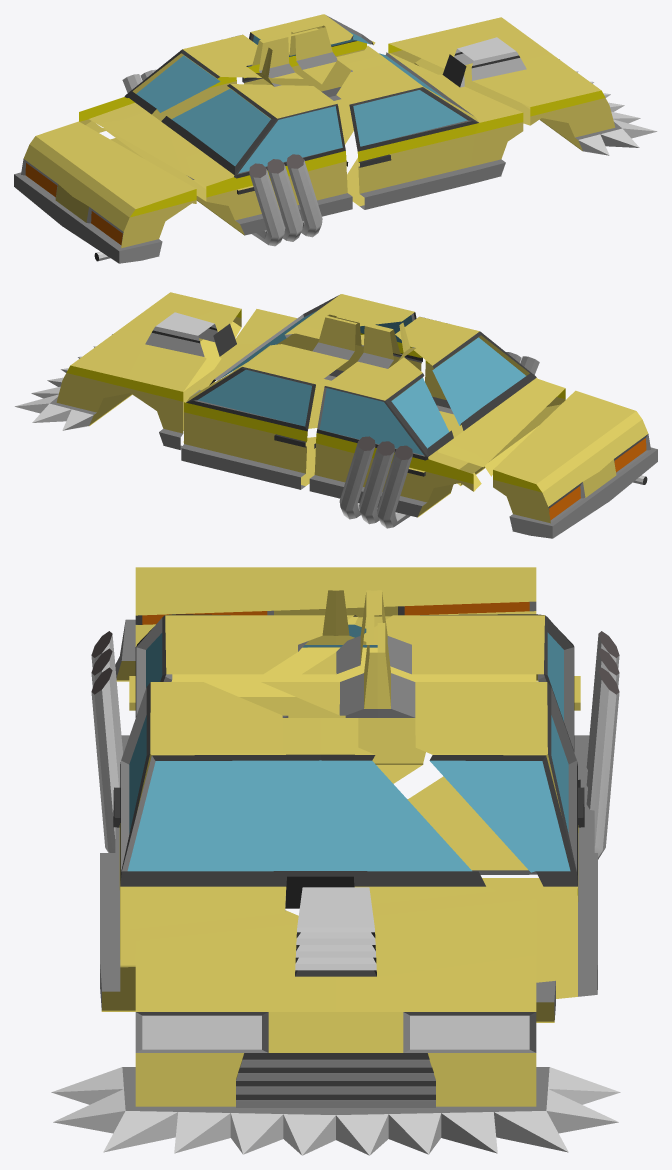
The model's file is Taxi Cab Destruct.fbx.
The picture shows the model from 3 angles, top to bottom: view 1: azimuth 30°, elevation 25°; view 2: azimuth 150°, elevation 25°; view 3: azimuth 270°, elevation 25°; orthographic projection. The views are drawn at different scales.
Visible parts, largest first — view 1: polySurface17, polySurface12, pCylinder4, polySurface4, polySurface16, polySurface11; view 2: polySurface16, polySurface11, polySurface4, pCylinder4, polySurface17, polySurface12; view 3: polySurface4, polySurface12, polySurface11, polySurface16, polySurface17, pCylinder4, polySurface7.
Part boxes in pixels (x1,y1,x2,y2): polySurface17: [89, 83, 352, 246]; polySurface12: [336, 45, 523, 209]; pCylinder4: [14, 121, 196, 263]; polySurface4: [388, 17, 657, 155]; polySurface16: [79, 28, 318, 132]; polySurface11: [242, 14, 375, 144]; polySurface16: [309, 316, 481, 528]; polySurface11: [181, 314, 364, 489]; polySurface4: [14, 292, 241, 449]; pCylinder4: [493, 390, 657, 538]; polySurface17: [395, 316, 565, 485]; polySurface12: [183, 294, 422, 442]; polySurface4: [51, 887, 620, 1155]; polySurface12: [100, 682, 495, 1011]; polySurface11: [261, 623, 597, 998]; polySurface16: [302, 590, 619, 874]; polySurface17: [91, 611, 536, 852]; pCylinder4: [115, 567, 538, 681]; polySurface7: [305, 590, 366, 644].
Size of the model in its own units: 21.31 by 5.56 by 9.72.
